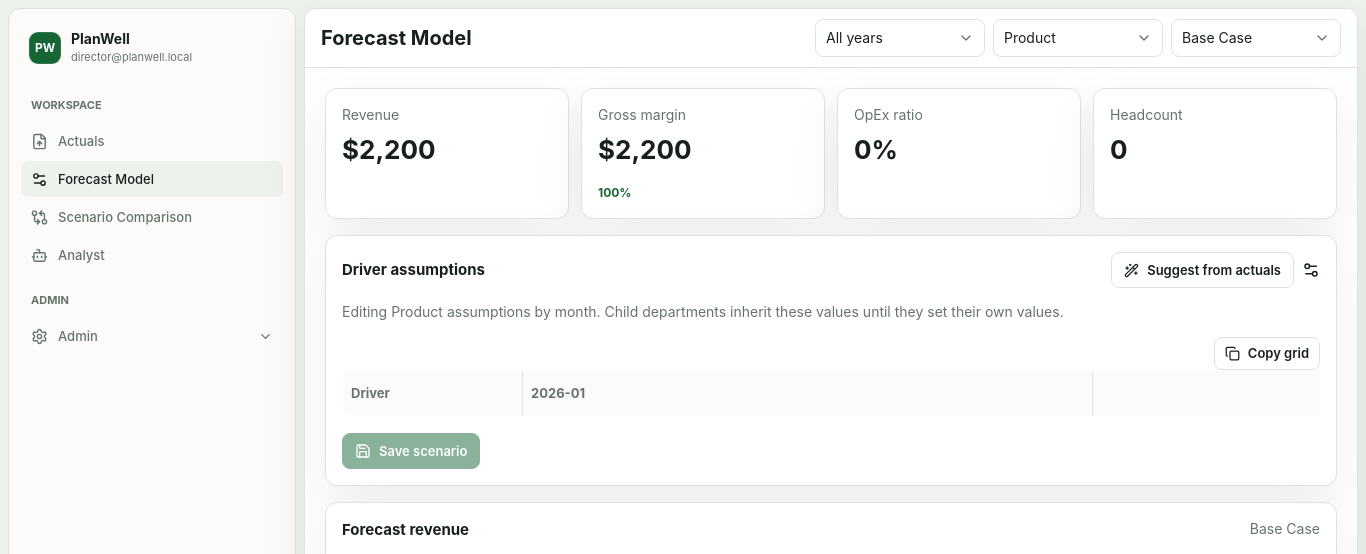
PlanWell workbench UI › filters Forecast Model by department and uses month-column spreadsheet grids
Click the dropdown named "forecast department".
click(1078, 38)  # box [993,19,1163,57]
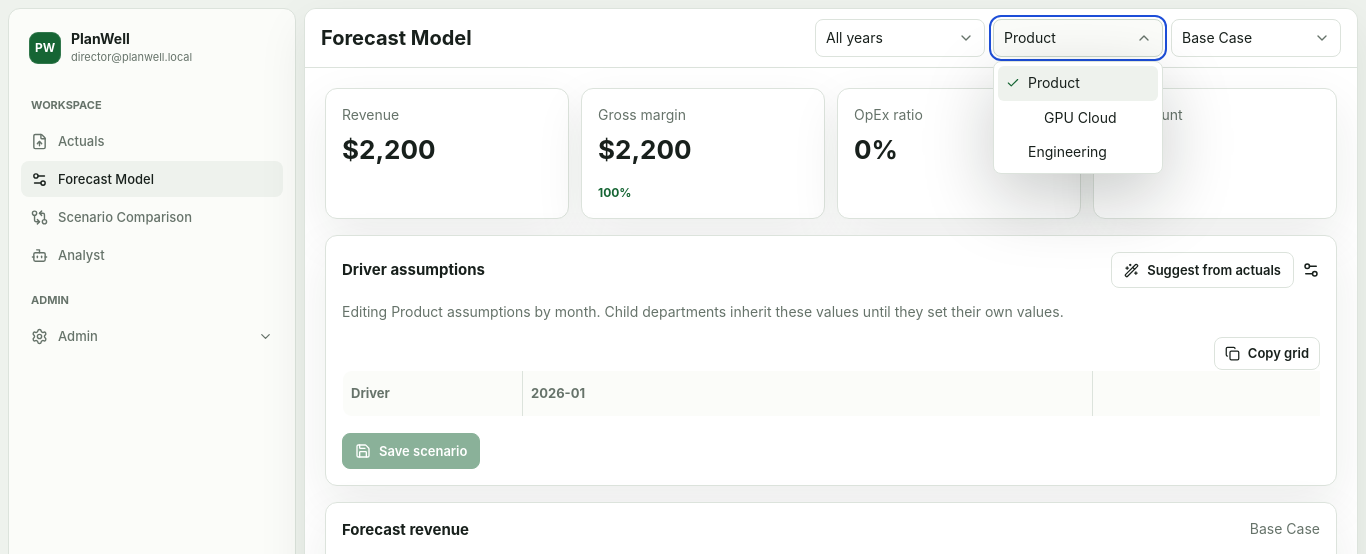
Click the option "GPU Cloud".
click(1078, 118)  # box [998,101,1158,135]
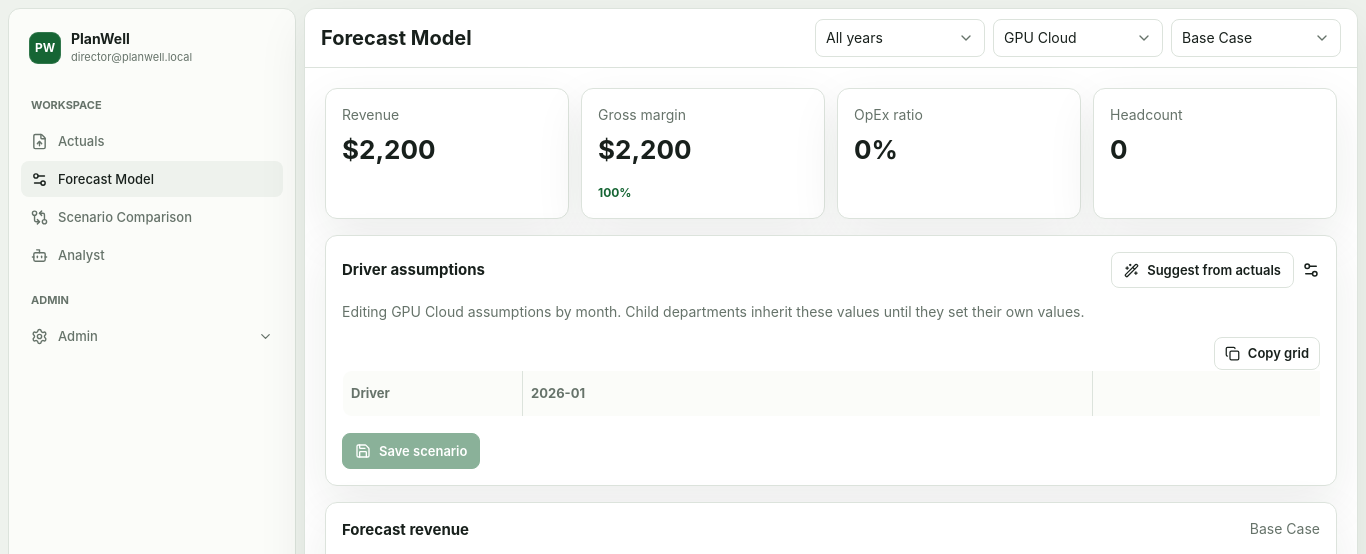
Expected: the column heading "2026-01" is shown, [522,370,1092,416]
Expected: the option "Engineering" is gone
